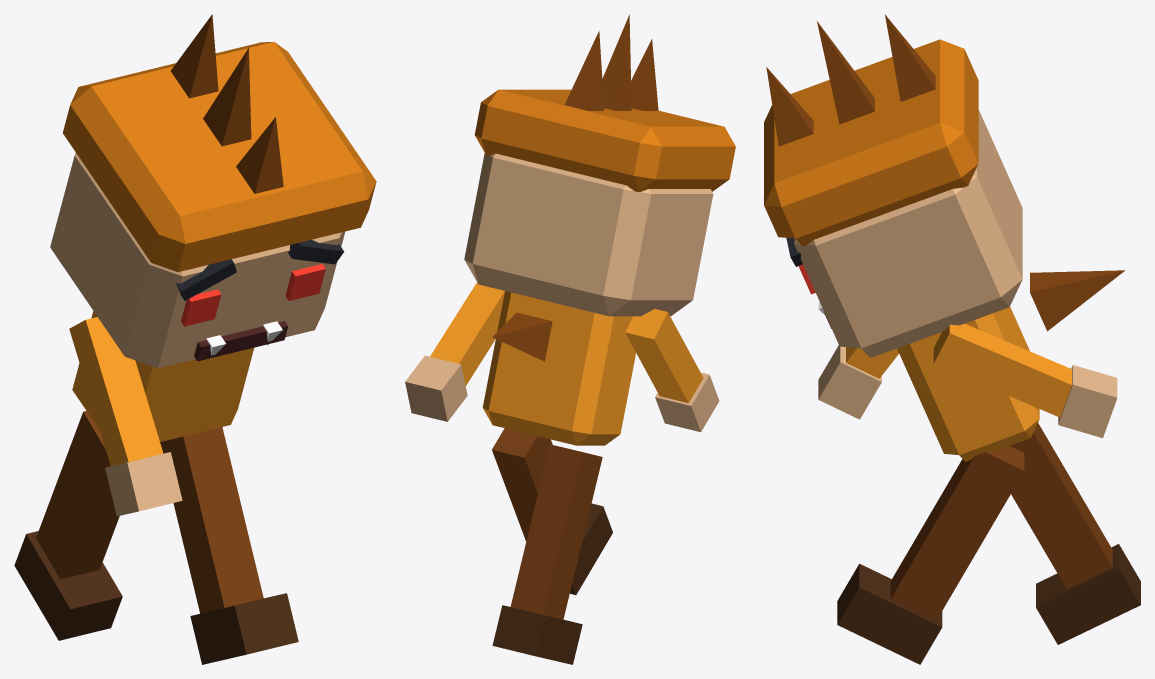
File: scout.glb
3 views of the same model, side by side, from view 1: azimuth 30°, elevation 25°; view 2: azimuth 150°, elevation 25°; view 3: azimuth 270°, elevation 25° (orthographic). The views are drawn at different scales.
Visible parts, largest first — view 1: scout_mesh; view 2: scout_mesh; view 3: scout_mesh.
Part boxes in pixels (bbox=[...]): scout_mesh: bbox=[14, 14, 376, 664]; scout_mesh: bbox=[405, 14, 735, 664]; scout_mesh: bbox=[764, 14, 1140, 664].
Size of the model in its own units: 0.4023 by 1.2 by 0.6453.
1 material, 1 textured.
